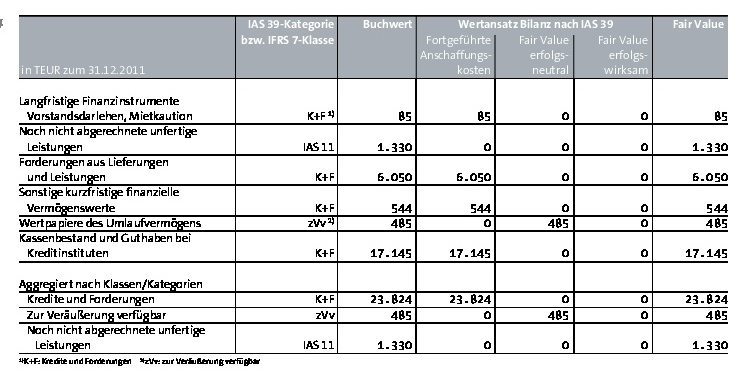table: (0, 0, 753, 374)
